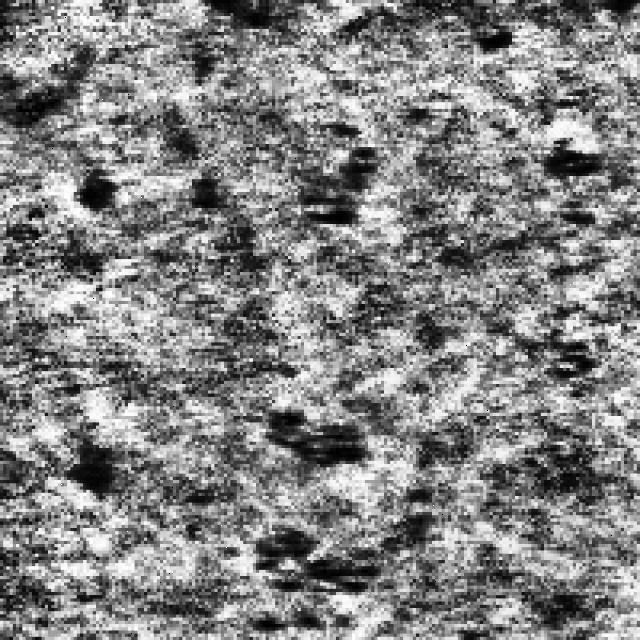Crazing: (524, 128, 602, 384), (288, 90, 387, 250), (234, 522, 372, 630), (250, 391, 368, 484)
